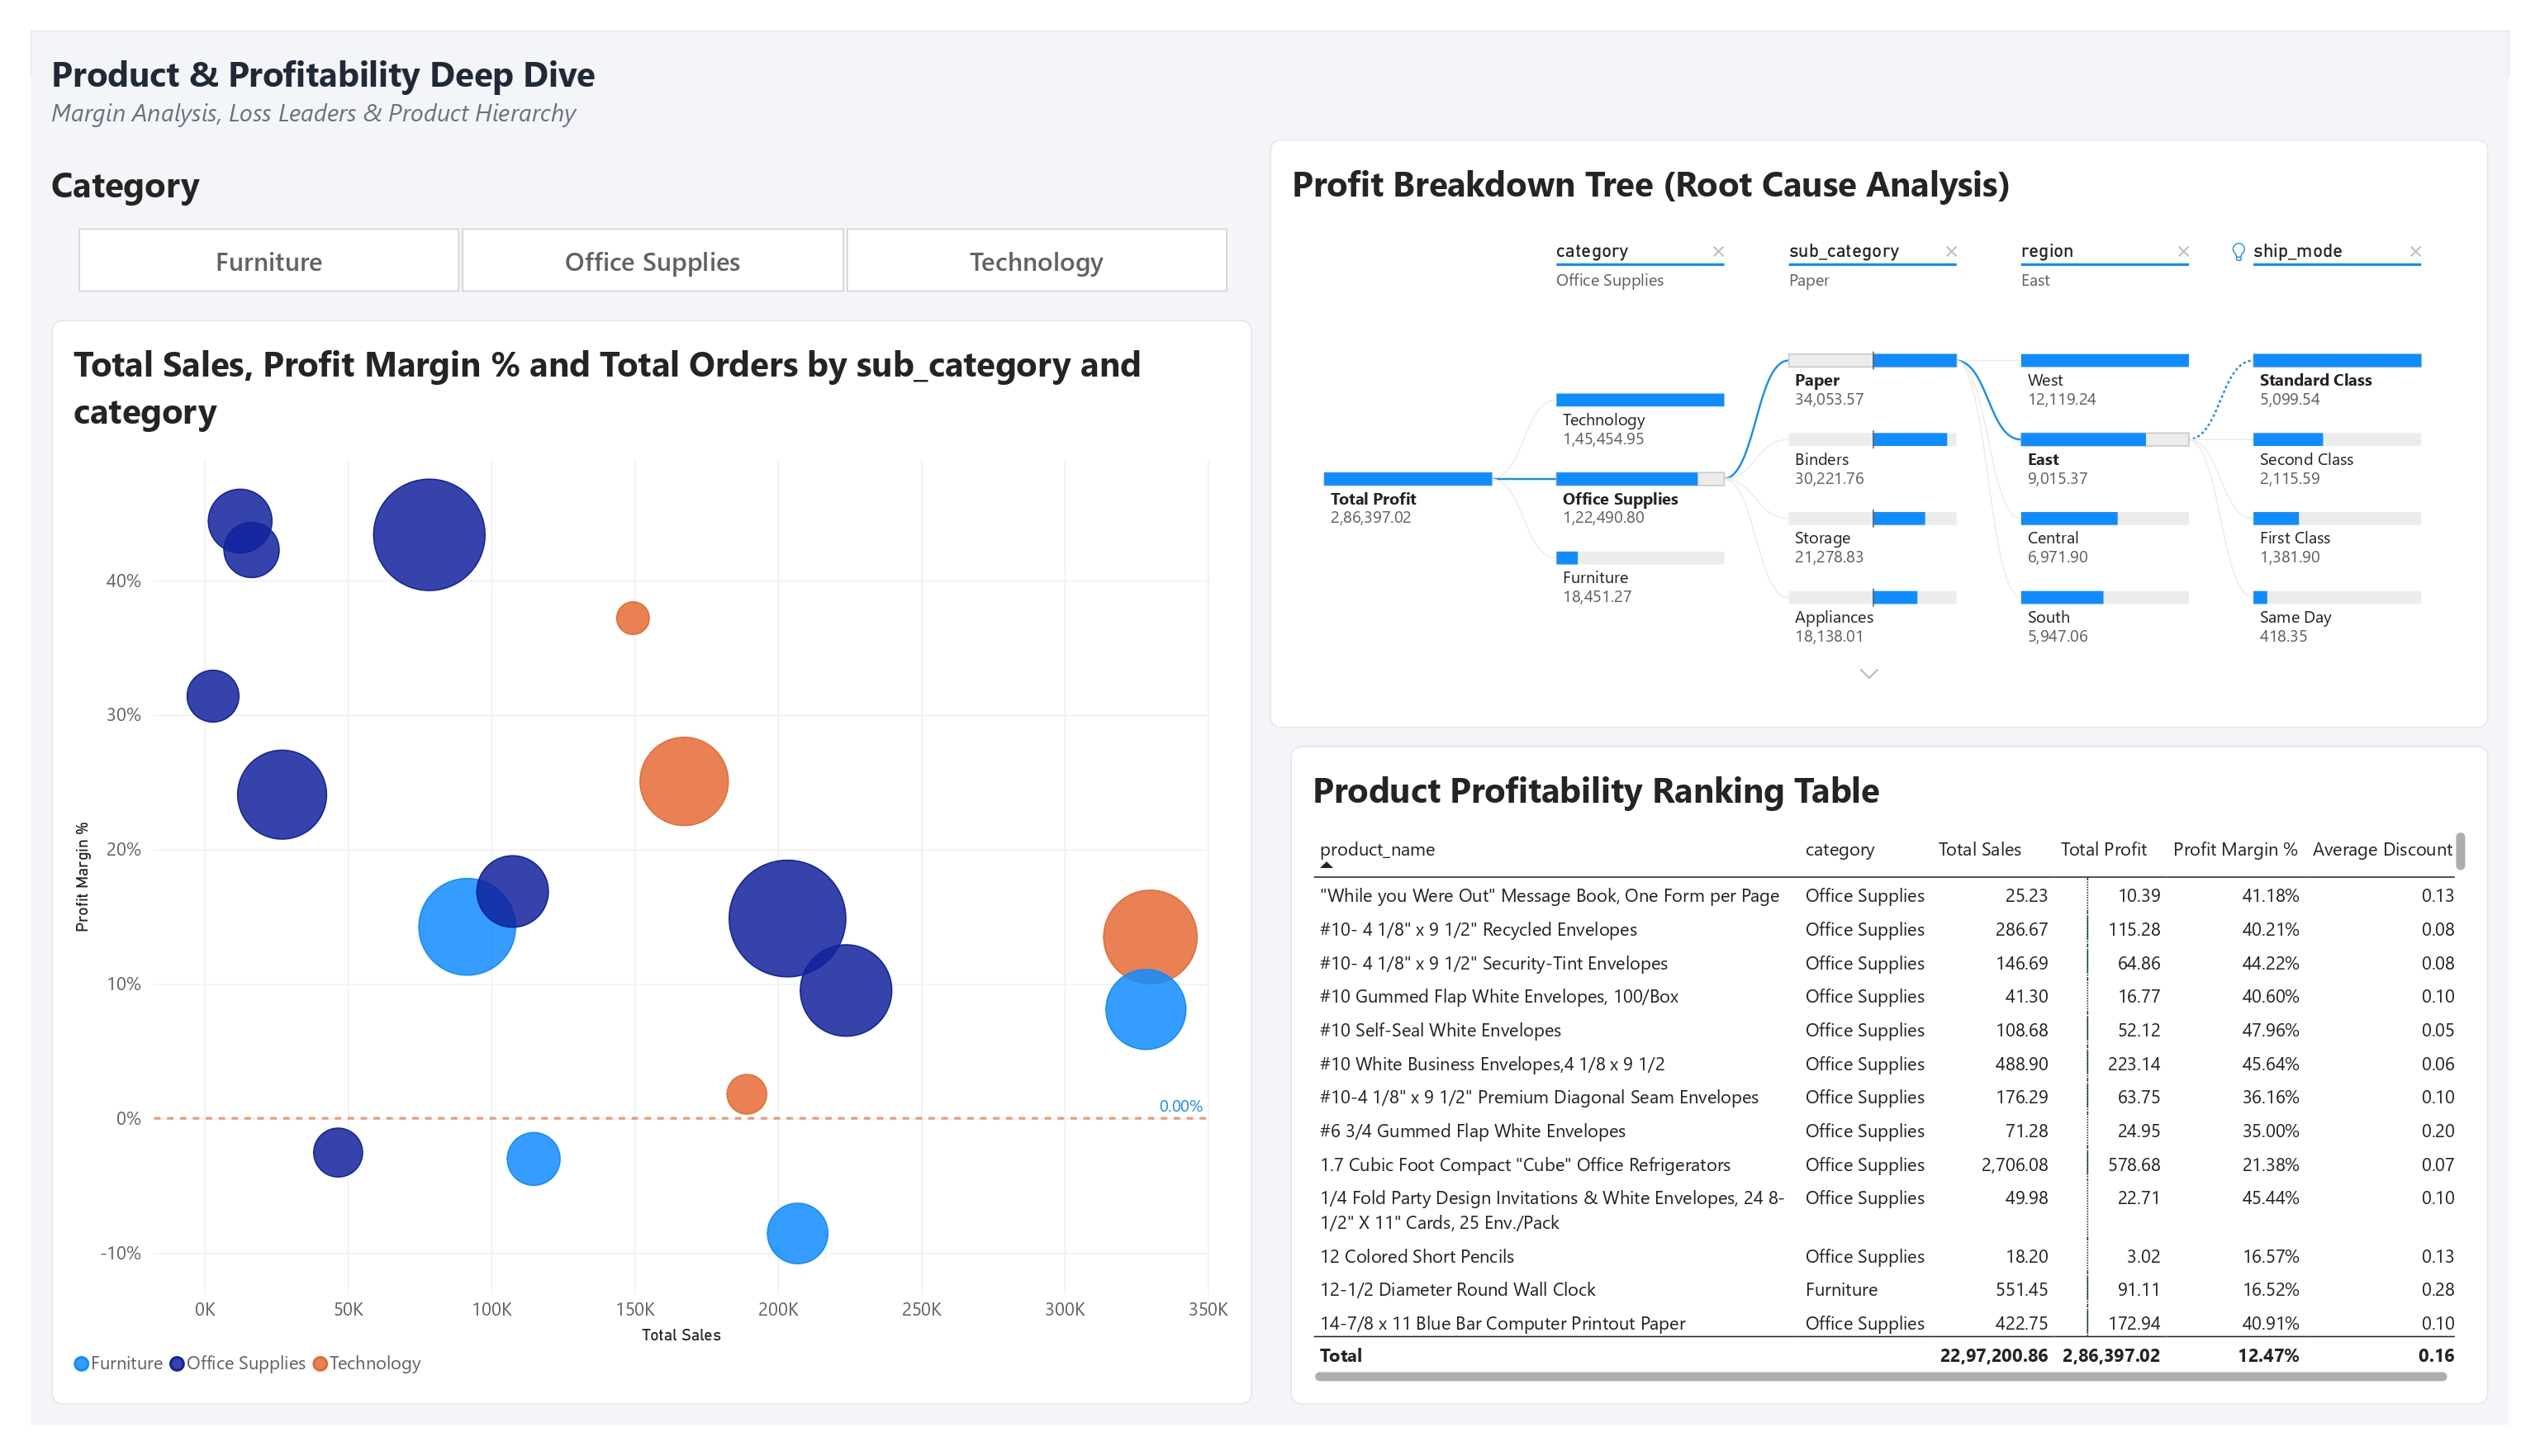

The page's visual inventory and layout, read from the dashboard file:
{"tool":"powerbi","page":{"name":"Product & Profitability Deep Dive","canvas":[1920,1080],"ordinal":1},"visuals":[{"type":"textbox","box":[16,14,1888,70],"z":0},{"type":"slicer","title":"Category","fields":{"Values":["retail_sales.category"]},"box":[16,100,930,104],"z":1000},{"type":"scatterChart","fields":{"Category":["retail_sales.sub_category"],"Series":["retail_sales.category"],"Size":["_Measures.Total Orders"],"X":["_Measures.Total Sales"],"Y":["_Measures.Profit Margin %"]},"box":[16,224,930,840],"z":2000},{"type":"decompositionTreeVisual","title":"Profit Breakdown Tree (Root Cause Analysis)","fields":{"Analyze":["_Measures.Total Profit"],"ExplainBy":["retail_sales.category","retail_sales.sub_category","retail_sales.region","retail_sales.ship_mode"]},"box":[960,84,944,456],"z":3000},{"type":"tableEx","title":"Product Profitability Ranking Table","fields":{"Values":["retail_sales.product_name","retail_sales.category","_Measures.Total Sales","_Measures.Total Profit","_Measures.Profit Margin %","_Measures.Average Discount"]},"box":[975.6,554.4,928.9,510],"z":4000}]}

Visuals, with their boxes on the page's 1920x1080 design canvas (x1, y1, x2, y2). These are canvas units, not pixel positions in the 2540x1456 screenshot, which may show the page scaled, cropped or inside an application window:
textbox: detection(16, 14, 1904, 84)
"Category" slicer: detection(16, 100, 946, 204)
scatterChart - retail_sales.sub_category x retail_sales.category: detection(16, 224, 946, 1064)
"Profit Breakdown Tree (Root Cause Analysis)" decompositionTreeVisual: detection(960, 84, 1904, 540)
"Product Profitability Ranking Table" tableEx: detection(976, 554, 1904, 1064)
